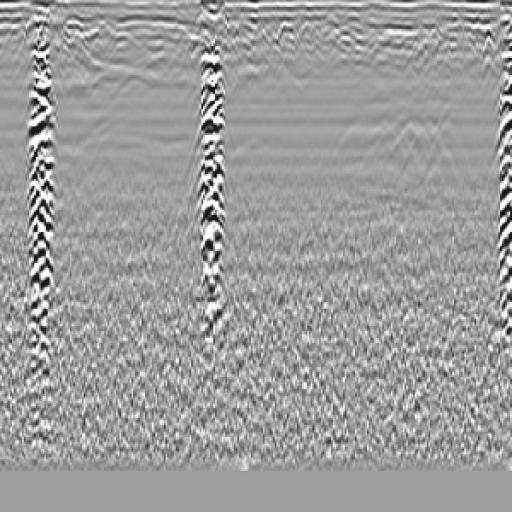metalic: (178, 7, 246, 394), (18, 18, 78, 384), (481, 22, 512, 389)
